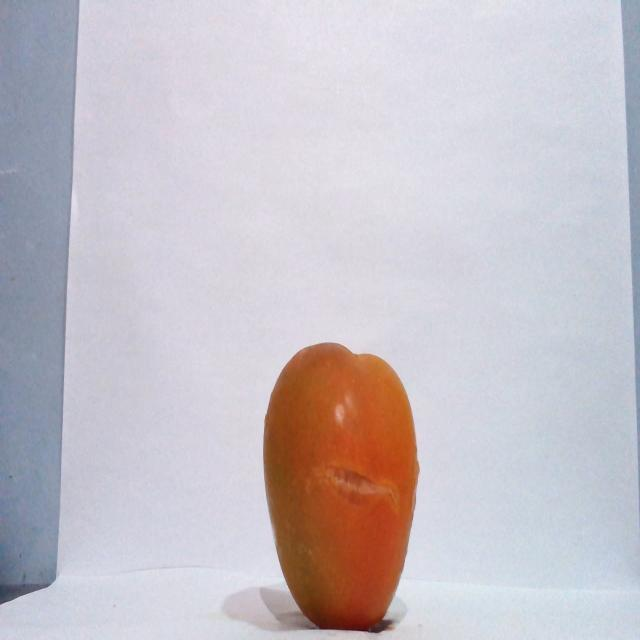Red: (261, 340, 420, 630)
